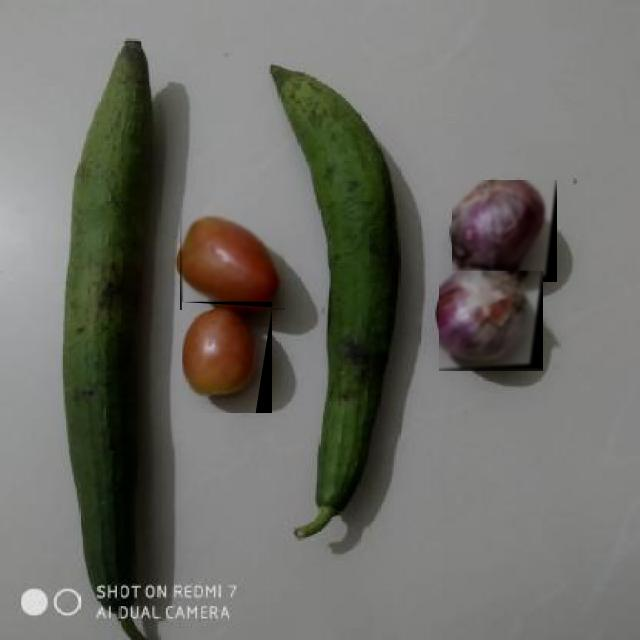onion: (452, 180, 557, 282), (439, 272, 543, 372)
tomato: (180, 208, 285, 310), (182, 302, 272, 413)
